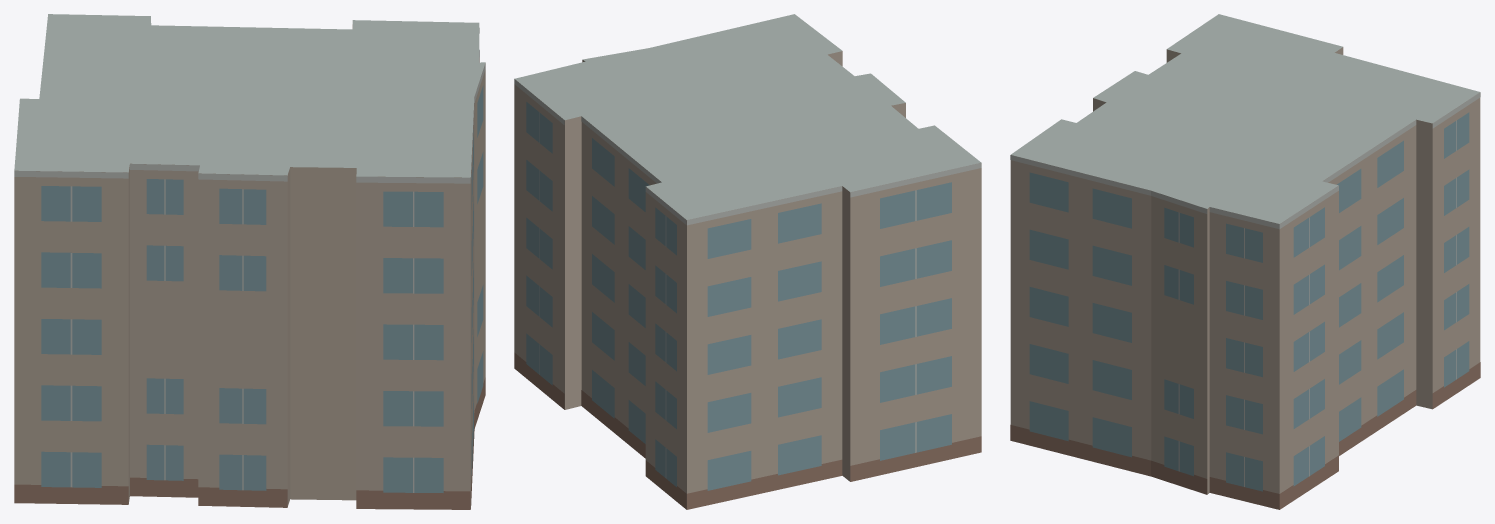
Rendered from survey-upis-32770457.glb.
The picture shows the model from 3 angles, left to right: view 1: azimuth 30°, elevation 25°; view 2: azimuth 150°, elevation 25°; view 3: azimuth 270°, elevation 25°; orthographic projection. The views are drawn at different scales.
Visible parts, largest first — view 1: survey-upis-32770457.tmp; view 2: survey-upis-32770457.tmp; view 3: survey-upis-32770457.tmp.
Boxes of the visible parts, <box> form: survey-upis-32770457.tmp: <box>14,14,485,509</box>; survey-upis-32770457.tmp: <box>514,14,981,509</box>; survey-upis-32770457.tmp: <box>1010,14,1480,509</box>.
Size of the model in its own units: 20.96 by 13.3 by 19.83.
